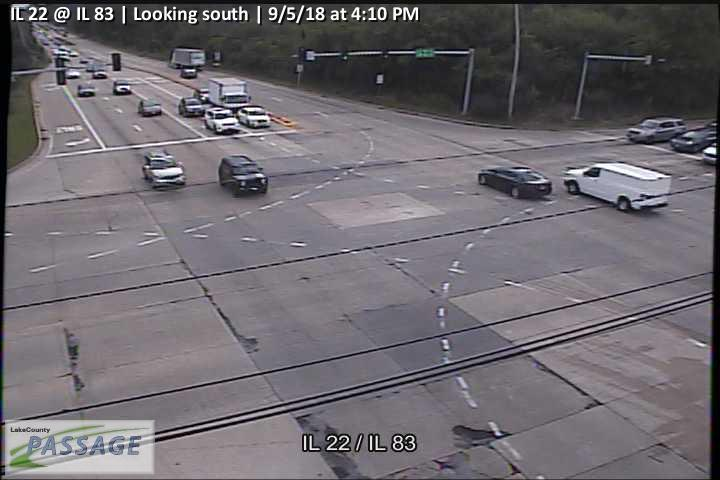SUV: (627, 116, 687, 145), (180, 68, 197, 78)
Sedan: (477, 164, 553, 199), (217, 154, 269, 196), (142, 150, 187, 188), (670, 129, 720, 153), (204, 107, 240, 133), (236, 106, 271, 127), (178, 97, 206, 117), (138, 98, 162, 116), (112, 80, 131, 95), (193, 87, 209, 103), (77, 83, 95, 97)
Truck: (563, 160, 673, 212), (207, 76, 252, 110), (168, 48, 206, 71)
